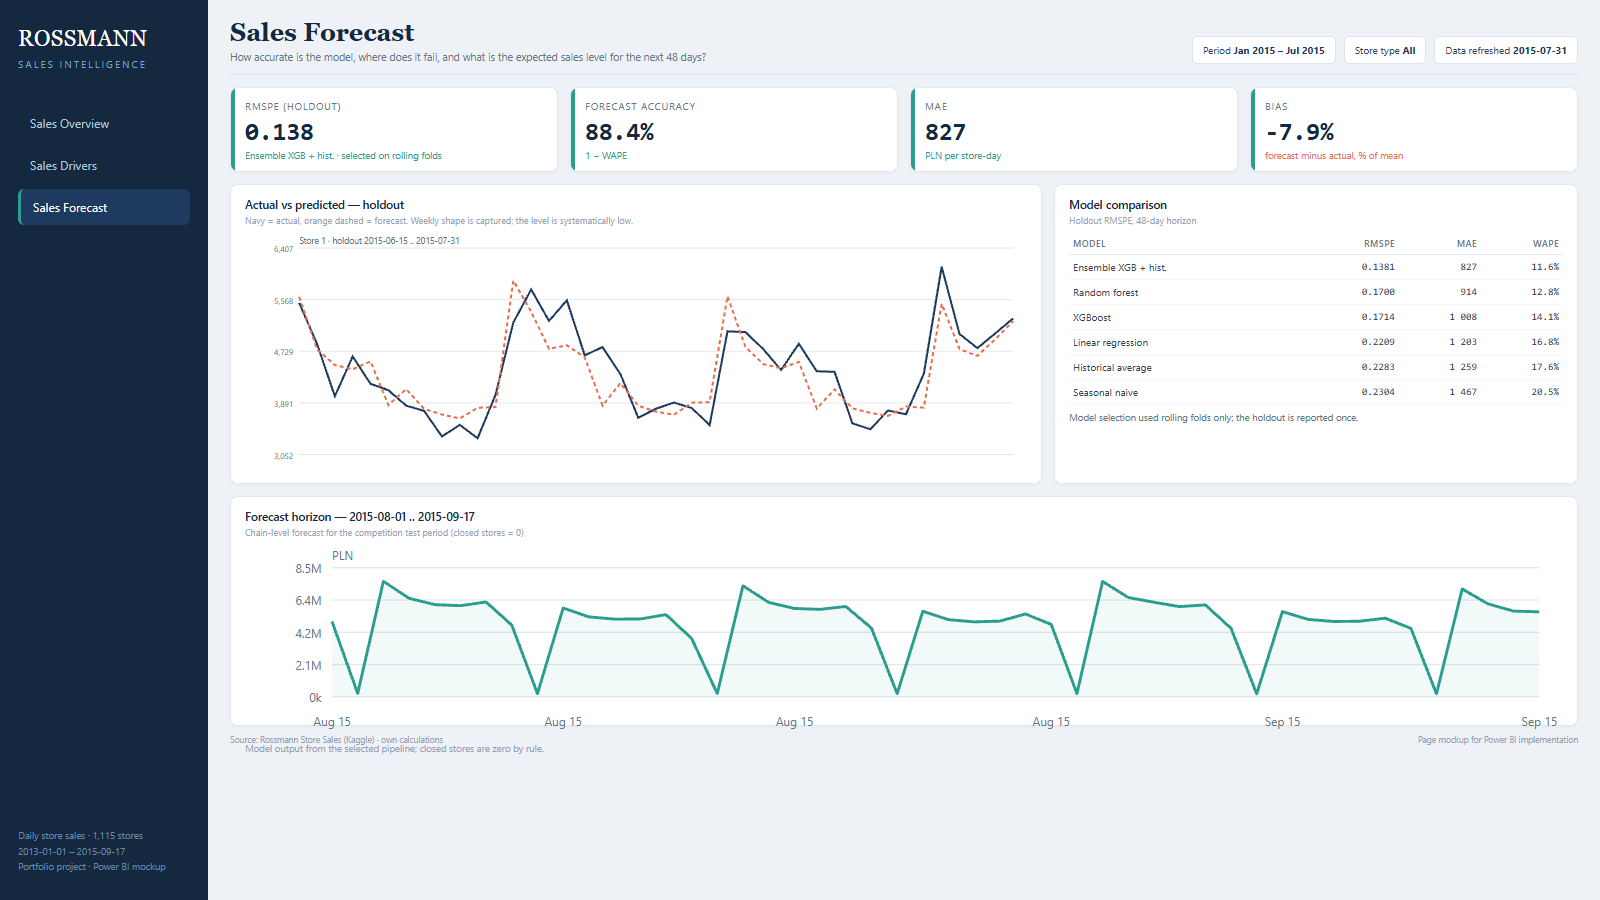

What the dashboard file says about the page in this screenshot:
{"tool":"powerbi","page":{"name":"Prognoza","canvas":[1920,1080],"ordinal":2},"visuals":[{"type":"textbox","box":[64,40,1150,110],"z":0},{"type":"textbox","box":[1420,48,436,80],"z":1000},{"type":"shape","box":[64,172,1792,2],"z":2000},{"type":"cardVisual","fields":{"Data":["_Miary.RMSPE (holdout)"]},"box":[64,192,430,140],"z":3000},{"type":"cardVisual","fields":{"Data":["_Miary.MAE (holdout)"]},"box":[518,192,430,140],"z":4000},{"type":"cardVisual","fields":{"Data":["_Miary.WAPE (holdout)"]},"box":[972,192,430,140],"z":5000},{"type":"cardVisual","fields":{"Data":["_Miary.Bias (holdout)"]},"box":[1426,192,430,140],"z":6000},{"type":"lineChart","title":"Rzeczywista vs prognozowana sprzedaż","fields":{"Category":["Dim_Data.Date"],"Y":["_Miary.Rzeczywista sprzedaż","_Miary.Prognoza sprzedaży"]},"box":[64.2,351.6,1180,458],"z":7000},{"type":"textbox","box":[1280,352,576,458],"z":8000},{"type":"tableEx","title":"Modele prognoz","fields":{"Values":["Fakt_ModeleHoldout.Model","Fakt_ModeleHoldout.RMSPE","Fakt_ModeleHoldout.MAE","Fakt_ModeleHoldout.WAPE"]},"box":[1230,352,626,458],"z":9000},{"type":"tableEx","title":"Gdzie model się myli","fields":{"Values":["Fakt_Bledy.Dimension","Fakt_Bledy.Level","Fakt_Bledy.RMSPE","Fakt_Bledy.N"]},"box":[64,828,1792,210],"z":9000}]}

Visuals, with their boxes on the page's 1920x1080 design canvas (x1, y1, x2, y2). These are canvas units, not pixel positions in the 1600x900 screenshot, which may show the page scaled, cropped or inside an application window:
textbox: select_region(64, 40, 1214, 150)
textbox: select_region(1420, 48, 1856, 128)
shape: select_region(64, 172, 1856, 174)
cardVisual - _Miary.RMSPE (holdout): select_region(64, 192, 494, 332)
cardVisual - _Miary.MAE (holdout): select_region(518, 192, 948, 332)
cardVisual - _Miary.WAPE (holdout): select_region(972, 192, 1402, 332)
cardVisual - _Miary.Bias (holdout): select_region(1426, 192, 1856, 332)
"Rzeczywista vs prognozowana sprzedaż" lineChart: select_region(64, 352, 1244, 810)
textbox: select_region(1280, 352, 1856, 810)
"Modele prognoz" tableEx: select_region(1230, 352, 1856, 810)
"Gdzie model się myli" tableEx: select_region(64, 828, 1856, 1038)
